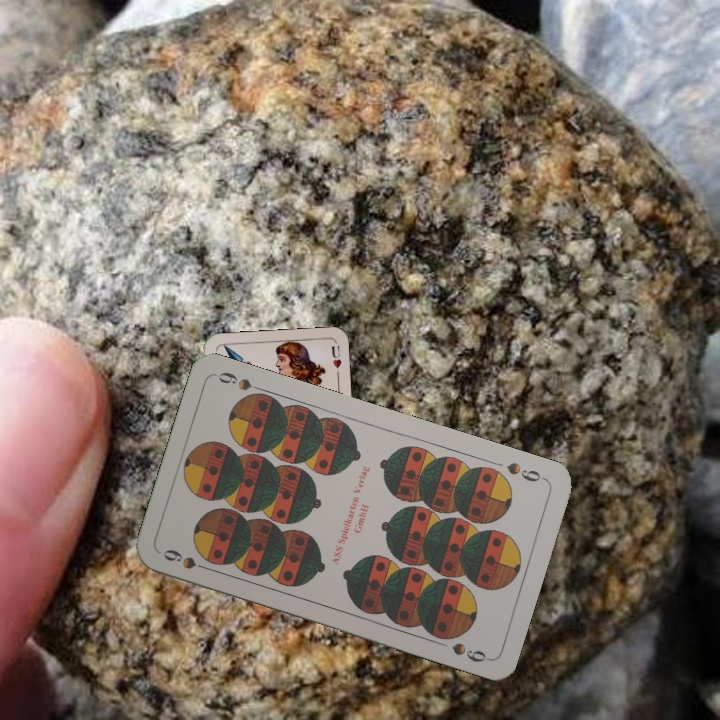S9: (159, 545, 217, 574), (502, 458, 548, 485)
